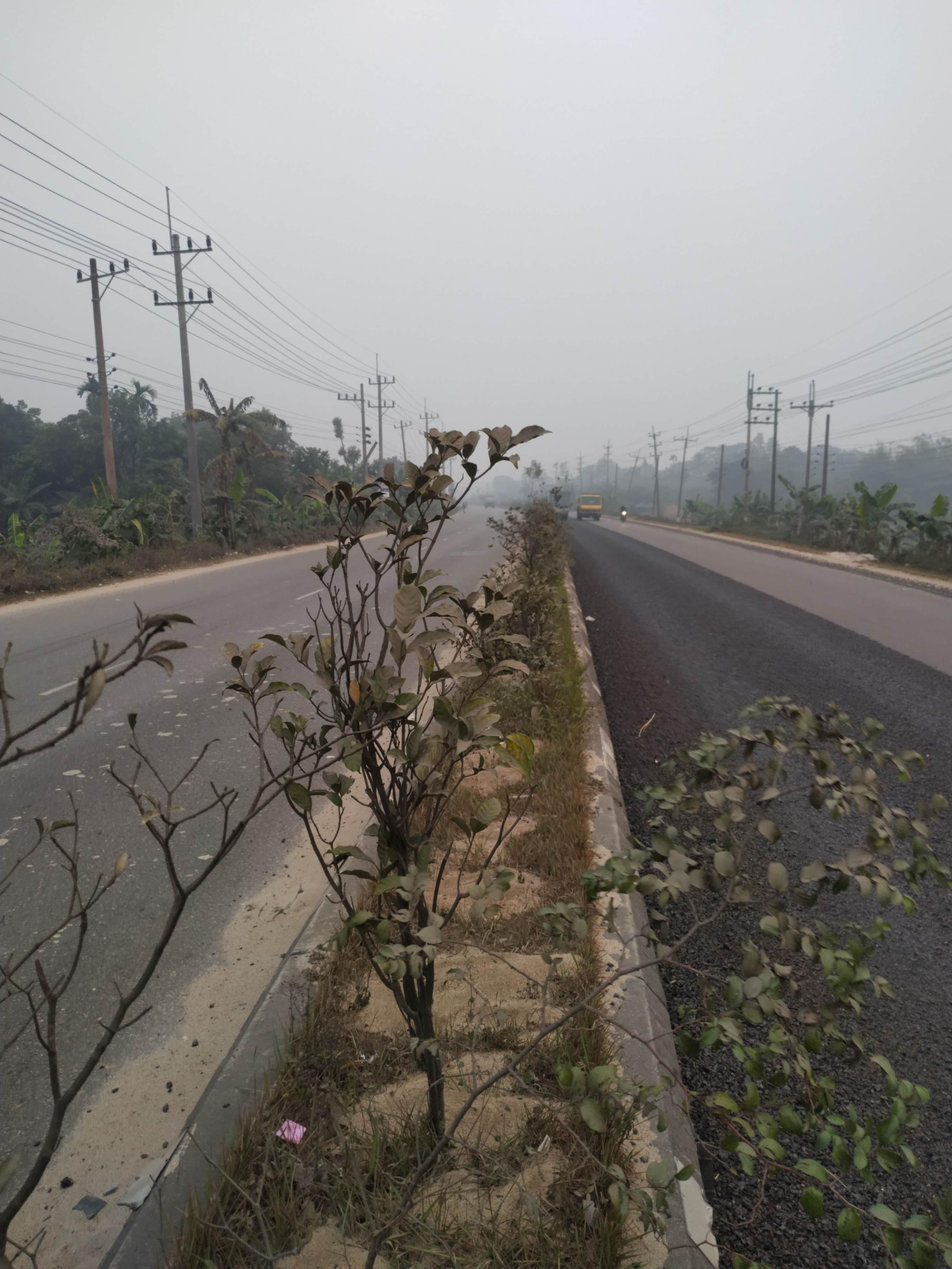Bike: (616, 496, 641, 531)
Truck: (559, 481, 615, 530)
